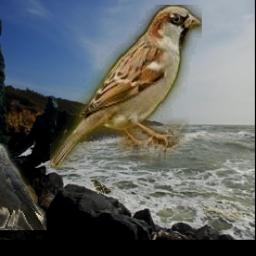Crow: (0, 144, 46, 231)
Cuckoo: (90, 179, 116, 195)
Sparrow: (50, 6, 202, 169)
